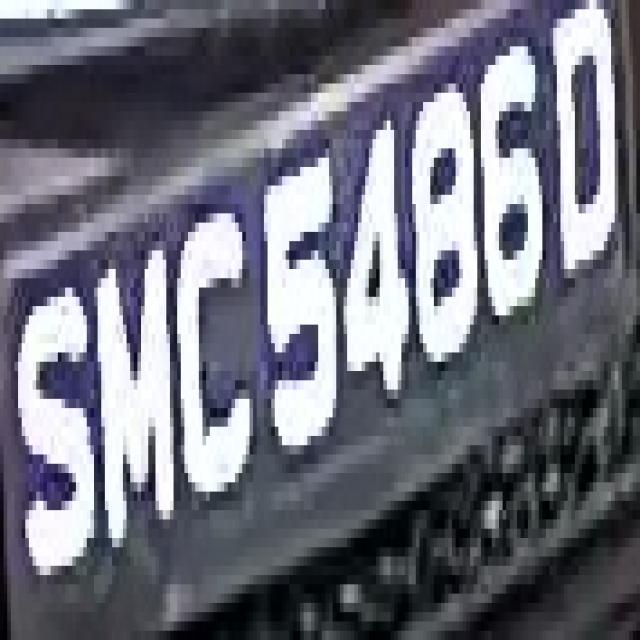4: (326, 84, 412, 426)
5: (253, 139, 344, 455)
6: (474, 46, 557, 344)
8: (398, 83, 484, 390)
C: (170, 195, 257, 510)
D: (539, 28, 622, 278)
M: (90, 232, 184, 547)
S: (11, 269, 94, 612)
